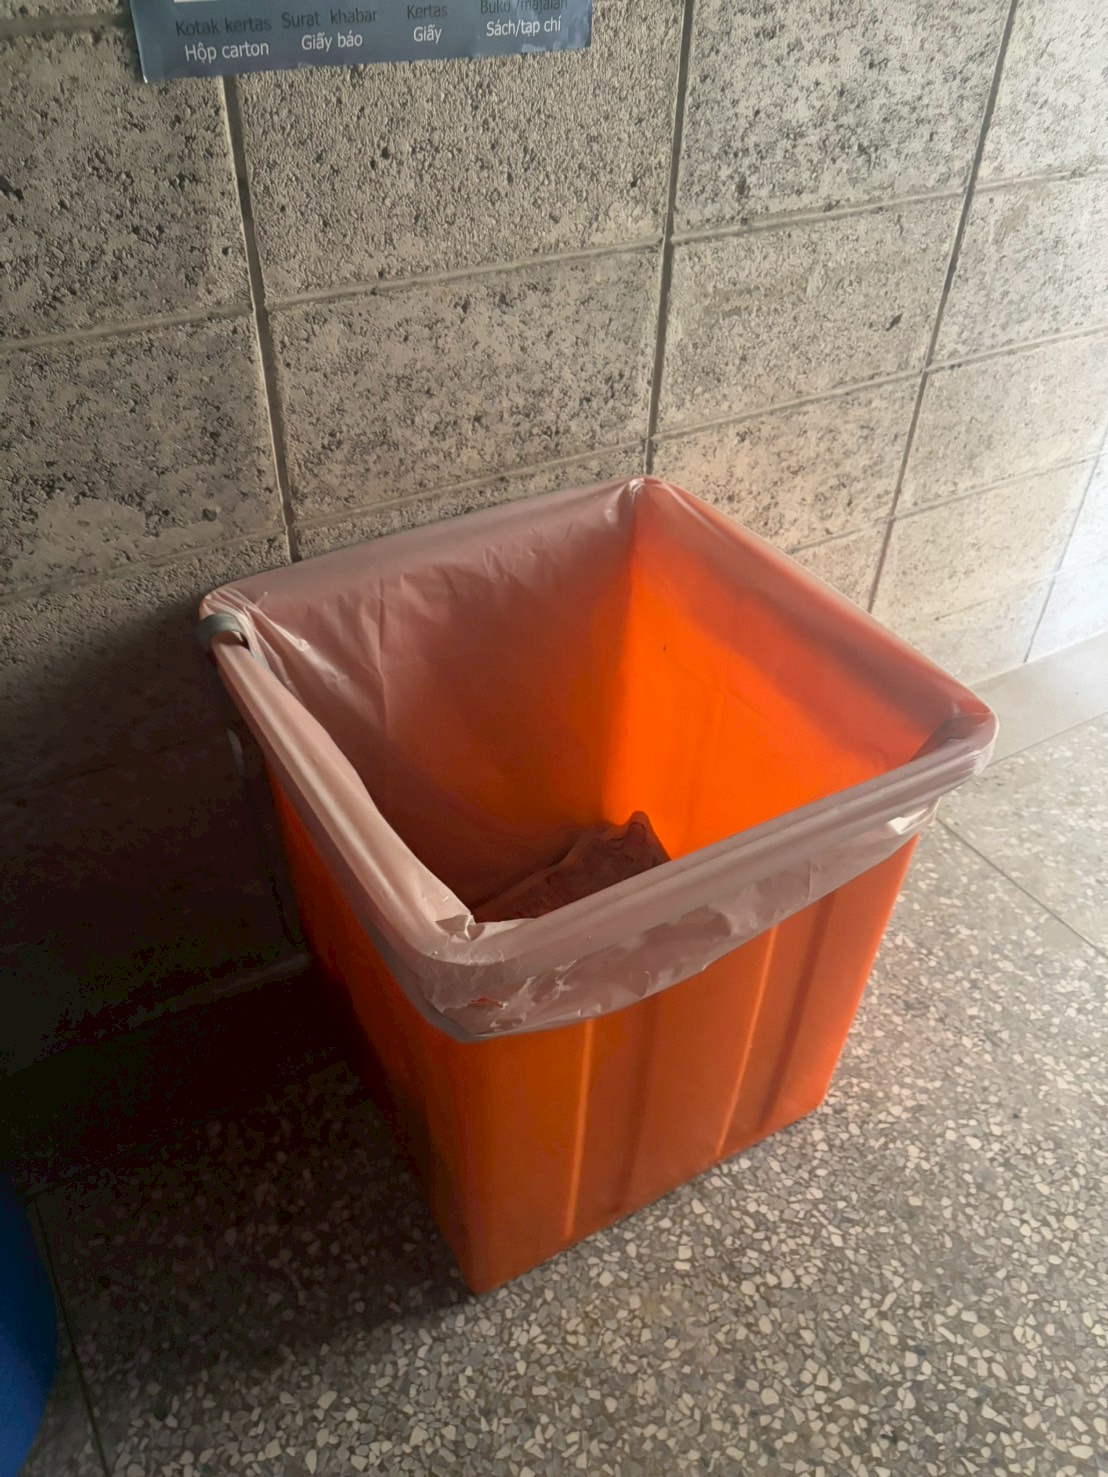normal_bin: (163, 481, 997, 1322)
